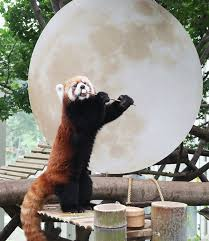redPanda: (9, 77, 139, 227)
